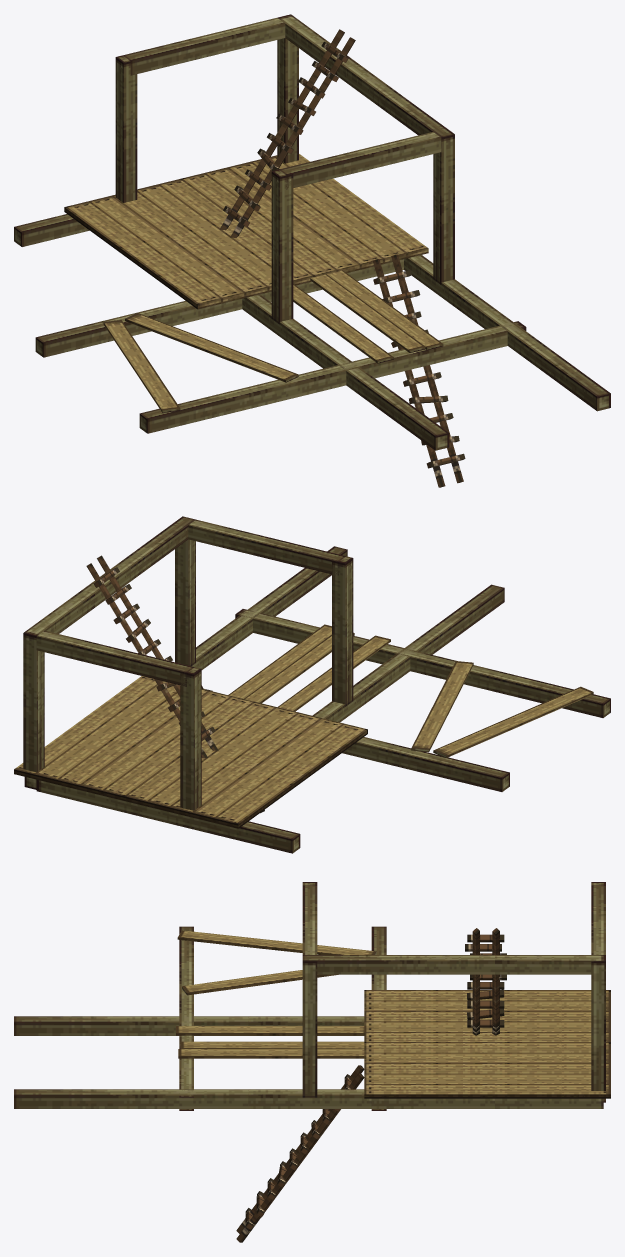
Rendered from EnvBdgMD_Wilderness_A_Outdoor_A_Timelapuse_C.FBX.
The picture shows the model from 3 angles, top to bottom: view 1: azimuth 30°, elevation 25°; view 2: azimuth 150°, elevation 25°; view 3: azimuth 270°, elevation 25°; orthographic projection. The views are drawn at different scales.
Parts seen in each view (by area): view 1: EnvBdgMD_Wilderness_A_Outdoor_A_Timelapuse_C; view 2: EnvBdgMD_Wilderness_A_Outdoor_A_Timelapuse_C; view 3: EnvBdgMD_Wilderness_A_Outdoor_A_Timelapuse_C.
Boxes of the visible parts, x1,y1,x2,y2 form: EnvBdgMD_Wilderness_A_Outdoor_A_Timelapuse_C: [14, 14, 610, 487]; EnvBdgMD_Wilderness_A_Outdoor_A_Timelapuse_C: [14, 516, 610, 853]; EnvBdgMD_Wilderness_A_Outdoor_A_Timelapuse_C: [14, 882, 610, 1242].
Size of the model in its own units: 825 by 722 by 1210.
1 material, 1 textured.
